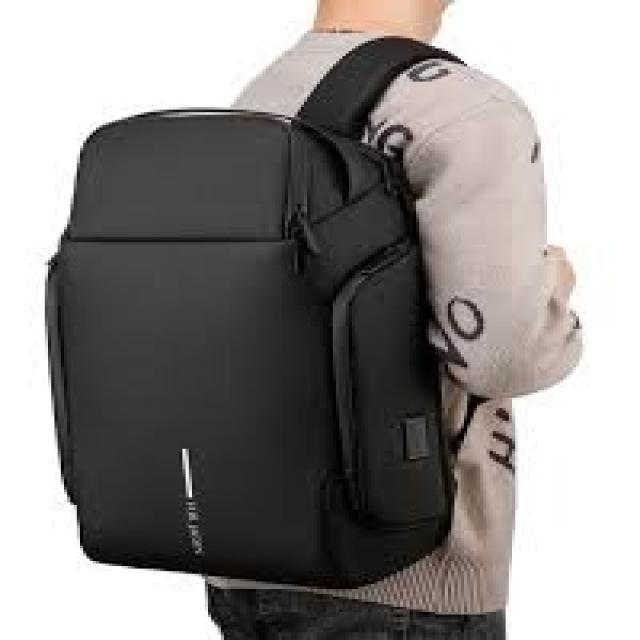backpack: (43, 34, 475, 590)
